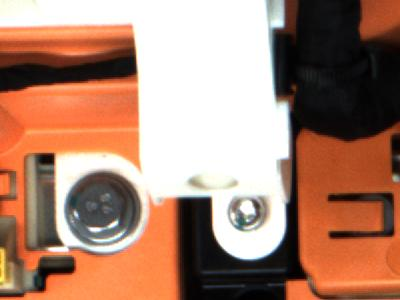nut_b: (58, 171, 146, 251)
